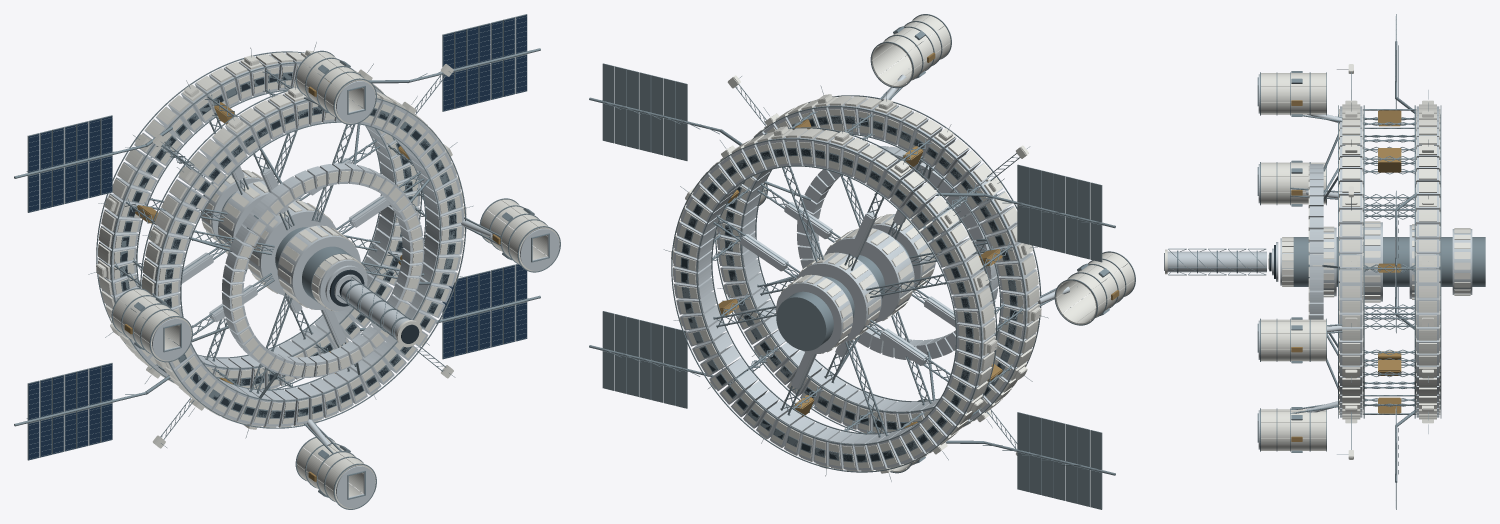
File: orbital_station.glb
3 renders of one model, left to right at view 1: azimuth 30°, elevation 25°; view 2: azimuth 150°, elevation 25°; view 3: azimuth 270°, elevation 25°, orthographic. The views are drawn at different scales.
Visible parts, largest first — view 1: pearl_alloy, ceramic_panels, titanium_frame, photovoltaic_cells, recess_seals, research_ceramic_panels, achievements_ceramic_panels, blog_ceramic_panels, courses_ceramic_panels, courses_titanium_frame, blog_titanium_frame, blog_pearl_alloy (+6 smaller); view 2: titanium_frame, pearl_alloy, ceramic_panels, recess_seals, achievements_ceramic_panels, research_ceramic_panels, thermal_blanket, achievements_titanium_frame, research_titanium_frame; view 3: ceramic_panels, pearl_alloy, titanium_frame, courses_ceramic_panels, achievements_ceramic_panels, blog_ceramic_panels, thermal_blanket, research_ceramic_panels, blog_titanium_frame, achievements_titanium_frame, courses_titanium_frame, research_titanium_frame.
Boxes of the visible parts, x1,y1,x2,y2 form: pearl_alloy: (29,16,526,459); ceramic_panels: (96,50,466,448); titanium_frame: (14,14,540,460); photovoltaic_cells: (28,15,526,459); recess_seals: (121,73,456,417); research_ceramic_panels: (113,289,191,361); achievements_ceramic_panels: (297,52,375,123); blog_ceramic_panels: (297,437,375,508); courses_ceramic_panels: (481,199,559,271); courses_titanium_frame: (464,198,560,272); blog_titanium_frame: (295,422,376,509); blog_pearl_alloy: (306,419,375,508); titanium_frame: (589,63,1115,509); pearl_alloy: (673,97,1038,470); ceramic_panels: (671,75,1041,473); recess_seals: (681,117,1016,461); achievements_ceramic_panels: (871,15,950,86); research_ceramic_panels: (1055,252,1134,324); thermal_blanket: (717,119,1002,428); achievements_titanium_frame: (870,14,951,100); research_titanium_frame: (1039,251,1135,325); ceramic_panels: (1165,64,1470,459); pearl_alloy: (1167,16,1472,508); titanium_frame: (1168,14,1485,509); courses_ceramic_panels: (1261,319,1326,361); achievements_ceramic_panels: (1261,73,1326,114); blog_ceramic_panels: (1261,409,1326,450); thermal_blanket: (1378,110,1401,413); research_ceramic_panels: (1261,162,1326,204); blog_titanium_frame: (1257,404,1337,452); achievements_titanium_frame: (1257,71,1342,121); courses_titanium_frame: (1257,317,1342,363); research_titanium_frame: (1257,160,1337,206).
Size of the model in its own units: 80 by 62.54 by 48.52.
